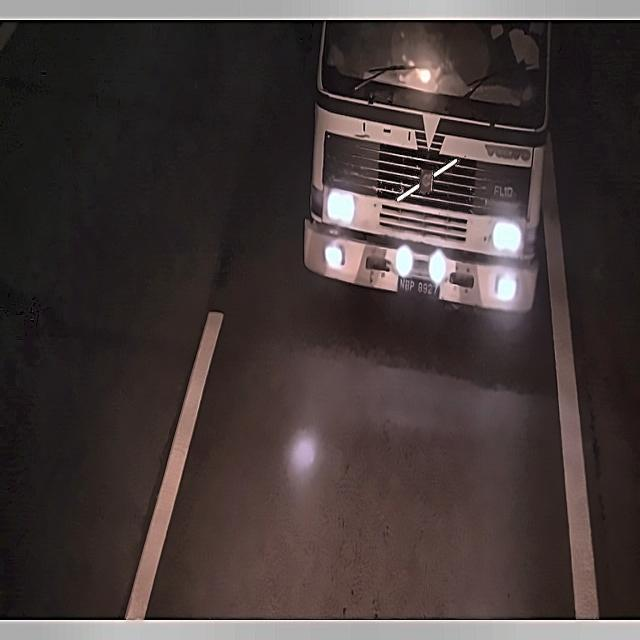car: (392, 264, 446, 306)
